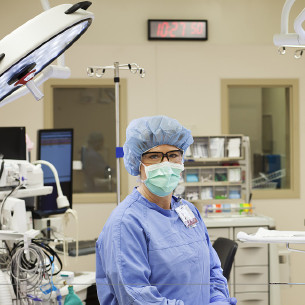face_mask: (140, 138, 182, 196)
